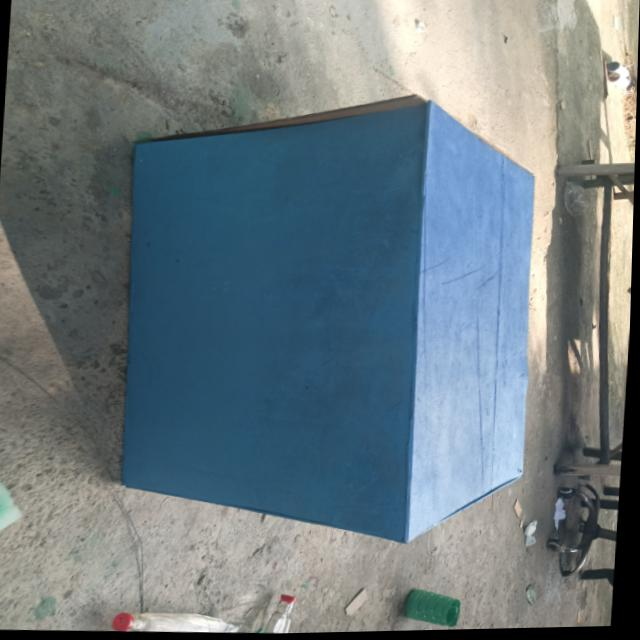blue_box: (108, 81, 543, 564)
